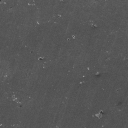corrosion: (94, 110, 104, 120), (37, 56, 45, 62), (95, 71, 101, 77), (71, 34, 76, 40), (79, 80, 83, 84)
